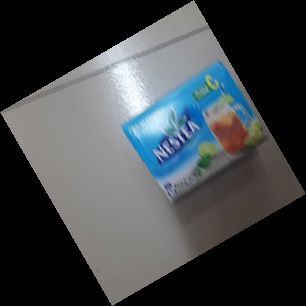Nestea: (118, 61, 274, 206)
